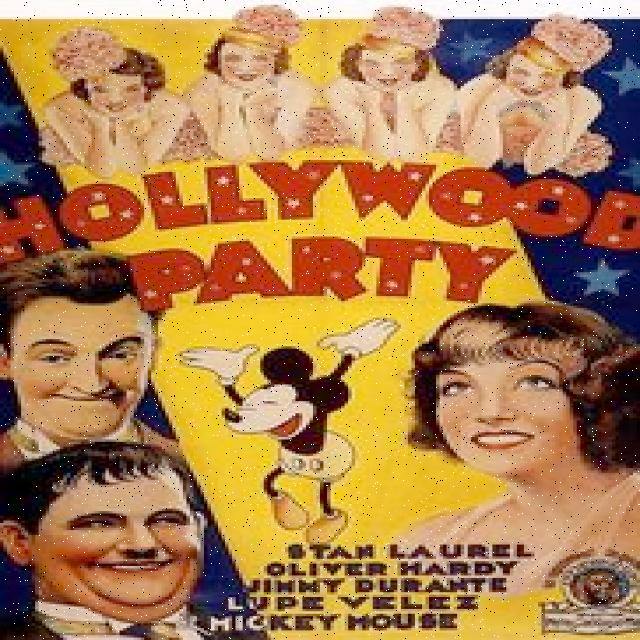movie-judul: (0, 158, 640, 308)
picture: (8, 251, 640, 613), (3, 19, 629, 154)
